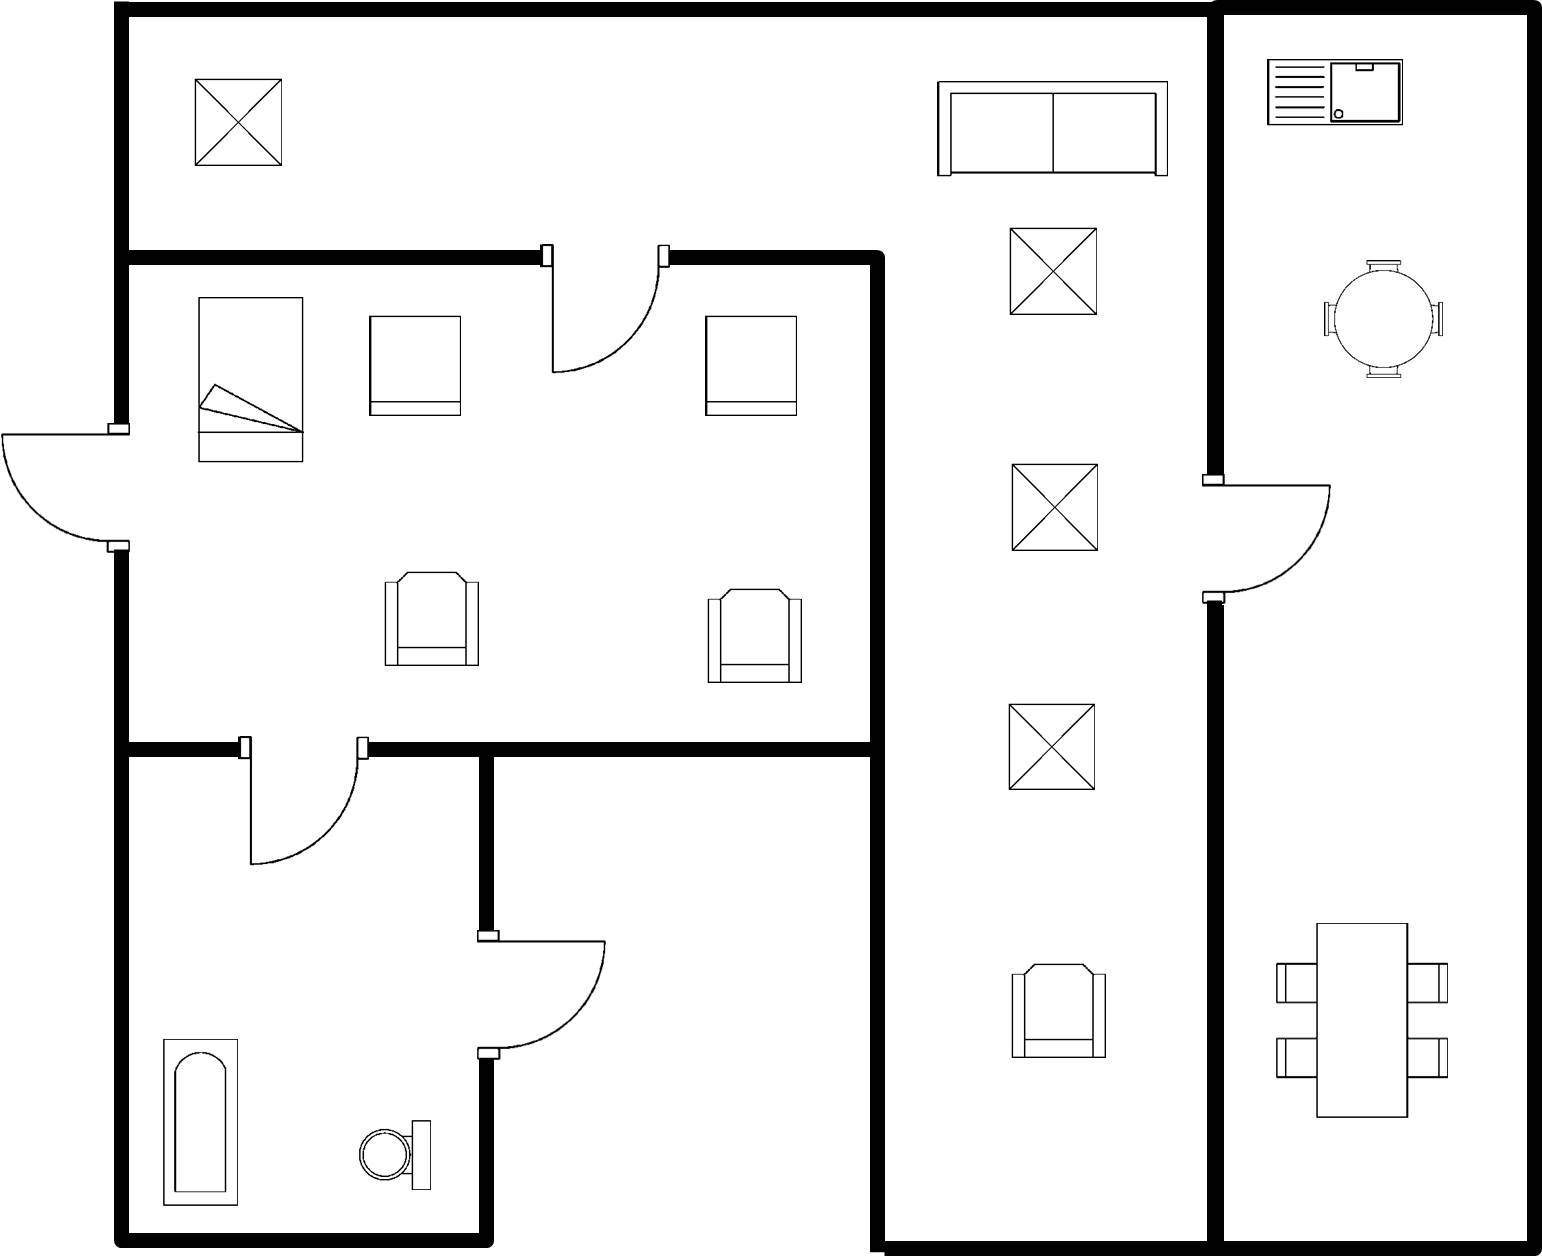armchair: (999, 954, 1114, 1068), (699, 578, 809, 692), (380, 561, 488, 675)
bed: (188, 286, 313, 469)
coffee_table: (999, 216, 1107, 324), (1003, 454, 1108, 563), (186, 71, 291, 177), (998, 696, 1102, 798)
dining_table: (1268, 916, 1455, 1127)
large_sink: (353, 1110, 442, 1199)
large_sofa: (930, 74, 1176, 188)
round_table: (1315, 249, 1452, 387)
sink: (1259, 49, 1413, 137)
small_sofa: (358, 304, 471, 426), (694, 307, 807, 422)
tub: (155, 1031, 247, 1214)
